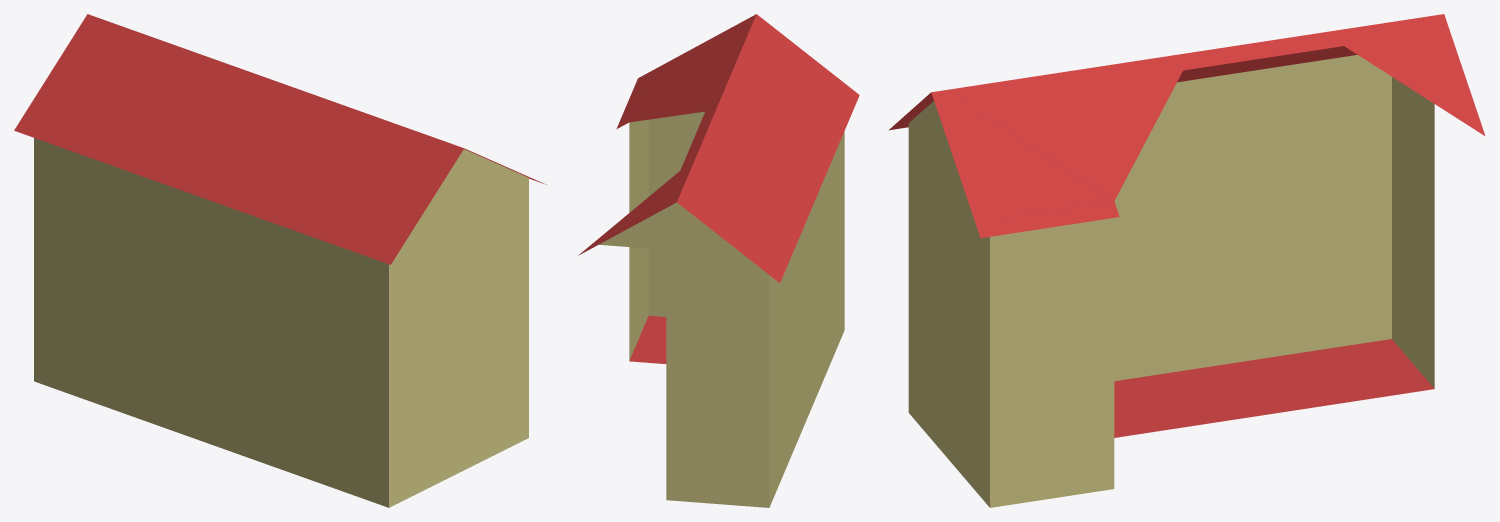
The picture shows the model from 3 angles, left to right: view 1: azimuth 30°, elevation 25°; view 2: azimuth 150°, elevation 25°; view 3: azimuth 270°, elevation 25°; orthographic projection. The views are drawn at different scales.
Bounding box in the file's own units: 13.93 × 18.89 × 12.79.
